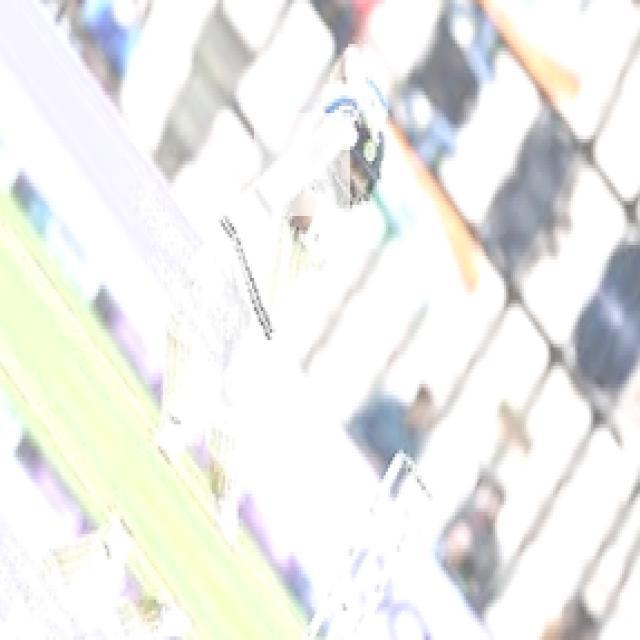bat: (248, 110, 349, 220)
toe: (250, 185, 269, 219)
